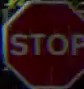Stop: (0, 2, 83, 88)
